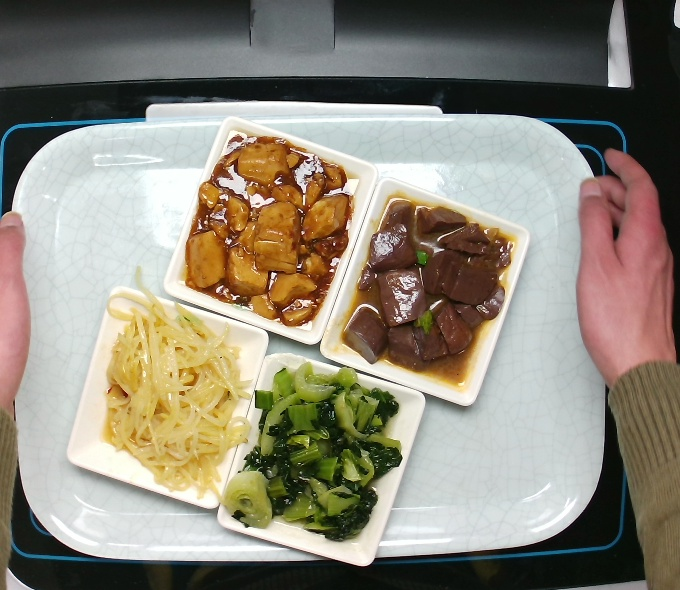wcq-MaPoDouFu: (179, 134, 360, 330)
wcq-NiuXue: (339, 192, 510, 393)
wcq-TuDouSi: (89, 292, 250, 496)
wcq-YouDongCai: (224, 363, 405, 555)
